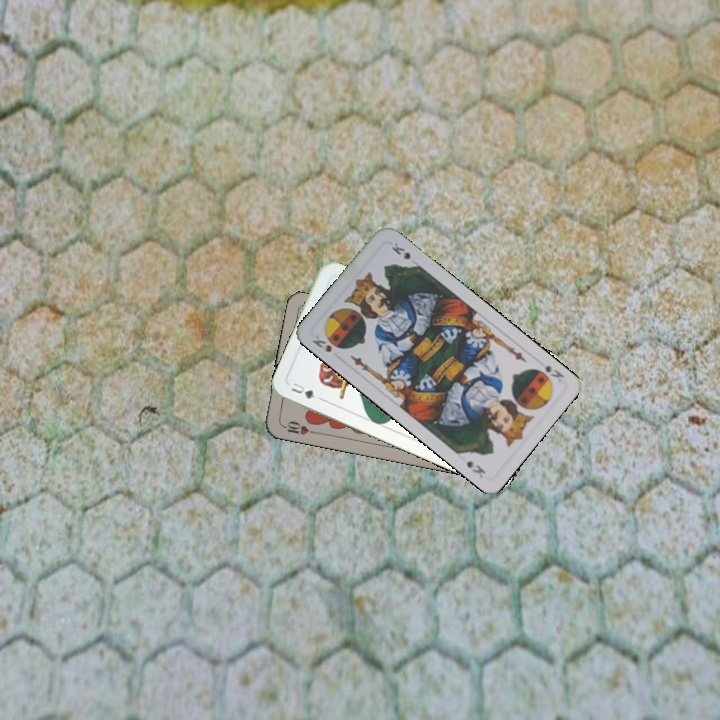GU: (287, 378, 318, 402)
H10: (278, 417, 318, 438)
SK: (308, 331, 334, 355), (540, 361, 567, 384)
